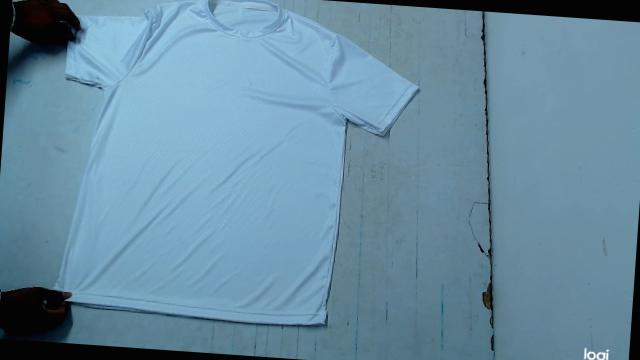new-garment: (55, 0, 417, 325)
